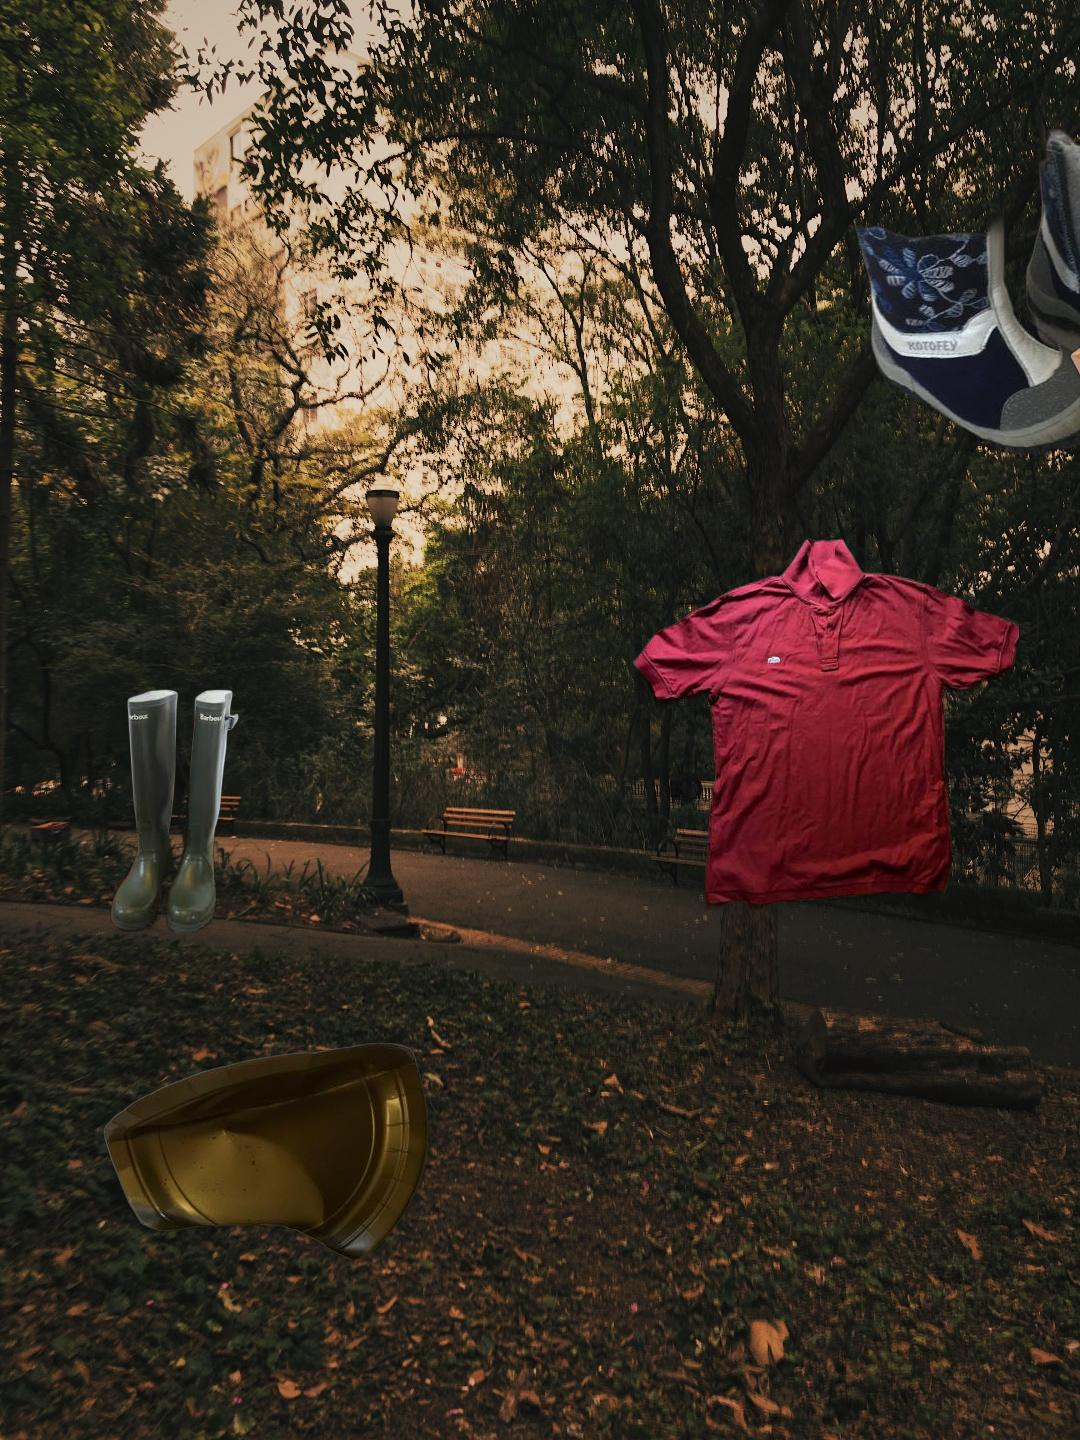clothes: (625, 534, 1019, 916)
paper: (99, 1039, 434, 1263)
paper-bag: (1068, 288, 1080, 485)
shoes: (850, 79, 1080, 461), (108, 687, 242, 932), (997, 200, 1080, 380)
